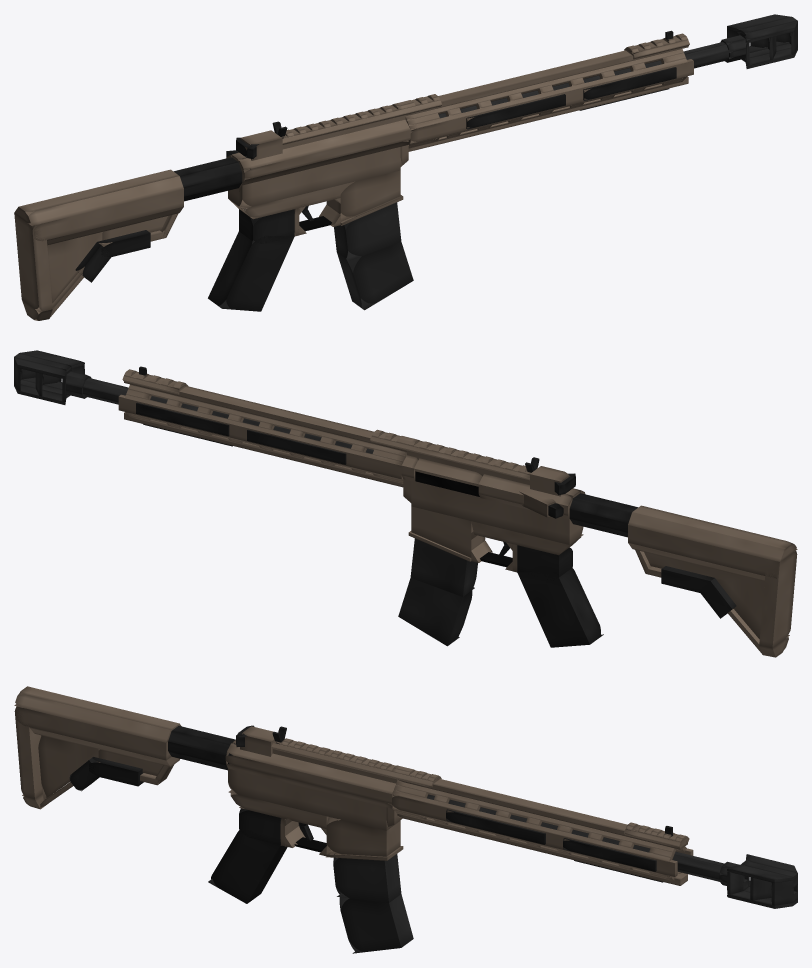
Rendered from ar15beowulf.obj.
3 views of the same model, one above another, from view 1: azimuth 30°, elevation 25°; view 2: azimuth 150°, elevation 25°; view 3: azimuth 330°, elevation 25° (orthographic).
Parts seen in each view (by area): view 1: gunModel49, defaultGripModel0, gunModel52, defaultStockModel2, ammoModel1, defaultStockModel1, gunModel0, defaultStockModel3, ammoModel0, gunModel54, gunModel2, defaultStockModel12 (+20 smaller); view 2: gunModel52, defaultGripModel0, defaultStockModel2, ammoModel1, defaultStockModel1, gunModel0, defaultStockModel3, ammoModel0, gunModel54, gunModel4, defaultStockModel12, gunModel3 (+22 smaller); view 3: gunModel49, gunModel52, defaultStockModel2, defaultGripModel0, ammoModel1, defaultStockModel1, ammoModel0, gunModel0, gunModel54, defaultStockModel12, gunModel2, defaultStockModel3 (+22 smaller).
Boxes of the visible parts, left/top/right/bottom form: gunModel49: left=239, top=119, right=410, bottom=191; defaultGripModel0: left=208, top=225, right=294, bottom=311; gunModel52: left=228, top=147, right=400, bottom=208; defaultStockModel2: left=14, top=169, right=183, bottom=225; ammoModel1: left=337, top=242, right=413, bottom=310; defaultStockModel1: left=25, top=189, right=183, bottom=241; gunModel0: left=405, top=45, right=688, bottom=115; defaultStockModel3: left=14, top=213, right=52, bottom=312; ammoModel0: left=334, top=202, right=401, bottom=260; gunModel54: left=326, top=170, right=400, bottom=221; gunModel2: left=409, top=59, right=693, bottom=143; defaultStockModel12: left=47, top=232, right=102, bottom=302; gunModel52: left=411, top=481, right=583, bottom=544; defaultGripModel0: left=517, top=568, right=603, bottom=647; defaultStockModel2: left=628, top=505, right=797, bottom=561; ammoModel1: left=398, top=578, right=472, bottom=646; defaultStockModel1: left=628, top=525, right=794, bottom=578; gunModel0: left=124, top=381, right=406, bottom=451; defaultStockModel3: left=759, top=551, right=797, bottom=648; ammoModel0: left=410, top=538, right=477, bottom=596; gunModel54: left=411, top=506, right=485, bottom=557; gunModel4: left=118, top=394, right=402, bottom=479; defaultStockModel12: left=709, top=568, right=764, bottom=638; gunModel3: left=128, top=384, right=406, bottom=457; gunModel49: left=225, top=743, right=395, bottom=808; gunModel52: left=228, top=763, right=400, bottom=830; defaultStockModel2: left=14, top=686, right=181, bottom=742; defaultGripModel0: left=208, top=830, right=287, bottom=903; ammoModel1: left=339, top=894, right=413, bottom=953; defaultStockModel1: left=16, top=708, right=171, bottom=760; ammoModel0: left=333, top=854, right=401, bottom=902; gunModel0: left=398, top=779, right=687, bottom=849; gunModel54: left=326, top=817, right=400, bottom=856; defaultStockModel12: left=38, top=735, right=99, bottom=799; gunModel2: left=392, top=794, right=677, bottom=876; defaultStockModel3: left=14, top=705, right=42, bottom=798.
Bounding box in the file's own units: 25.1 × 6.2 × 1.45.
